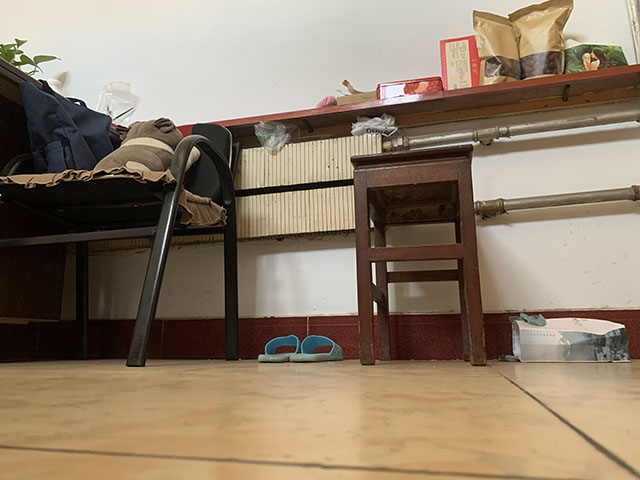slippers: (292, 333, 344, 364), (254, 335, 300, 364)
stool: (1, 119, 241, 368), (350, 143, 489, 369)
